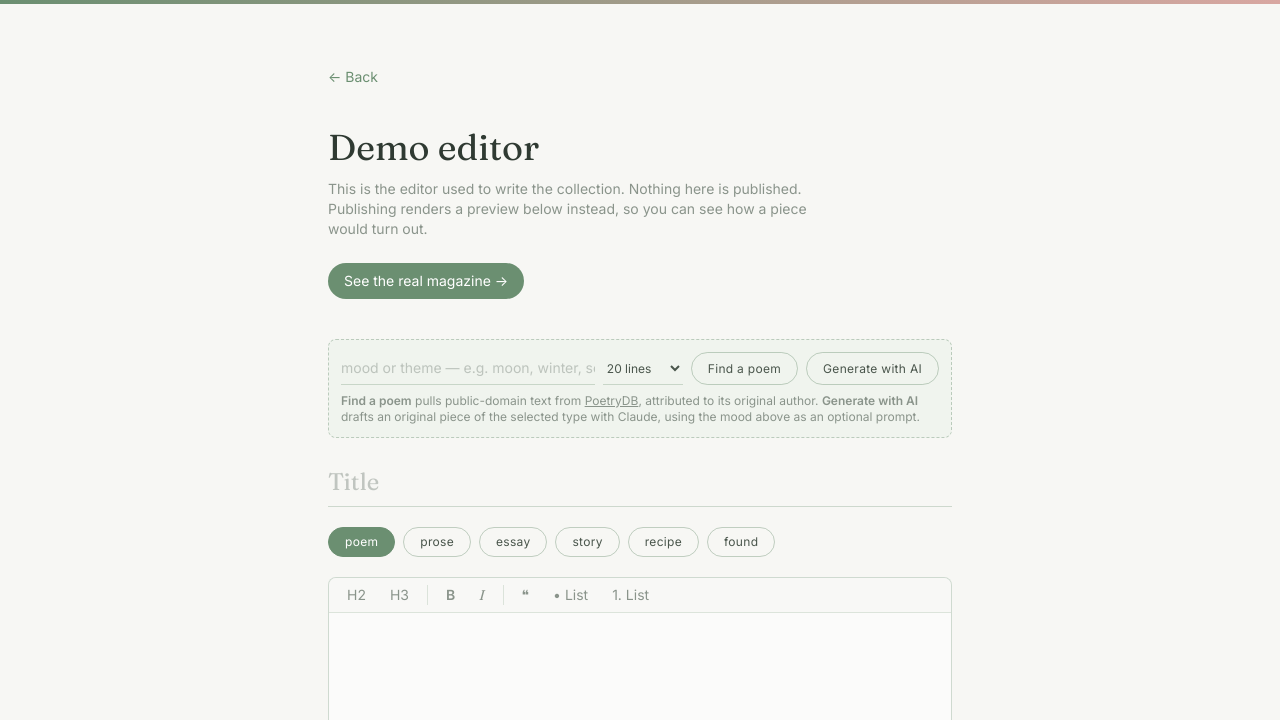
Test: public editor demo › still runs the real PoetryDB flow, unaffected by the mock
Type "winter" into the field with placeholder "mood or theme — e.g. moon, winter, sorrow" at (468, 369), box 341,352 -> 595,385
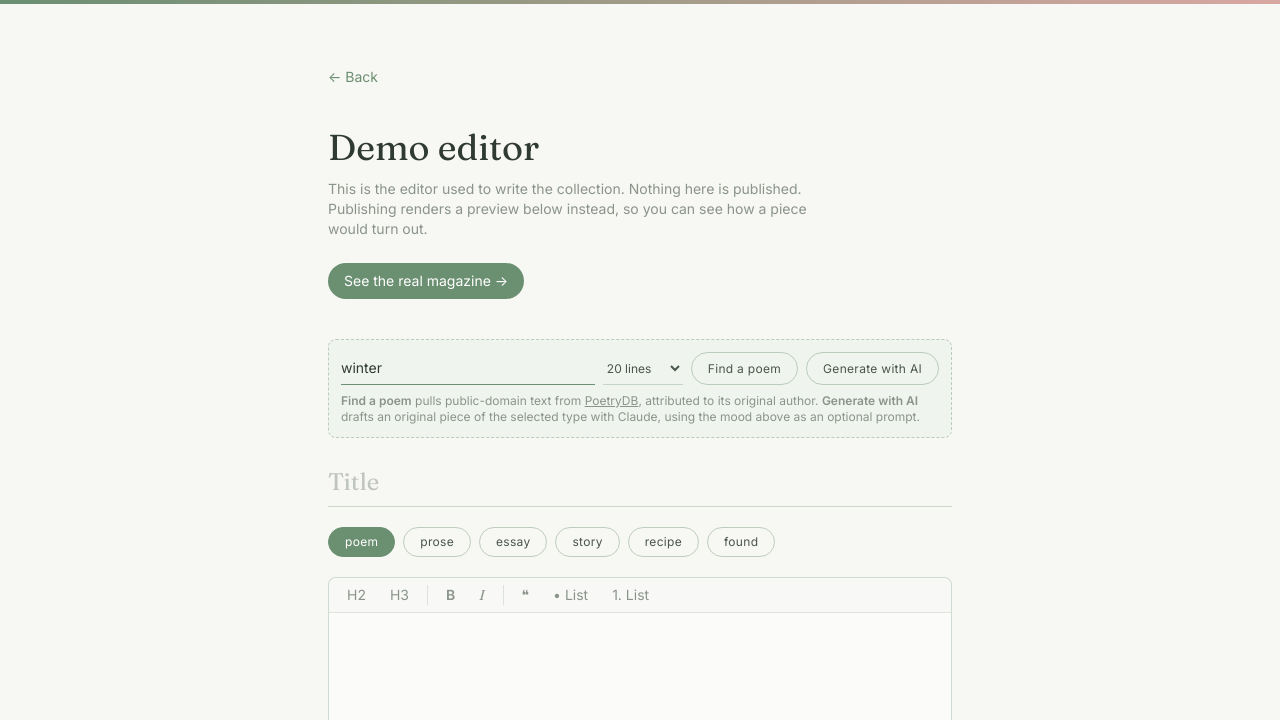
Click the button "Find a poem" at (745, 369), box 691,352 -> 798,385
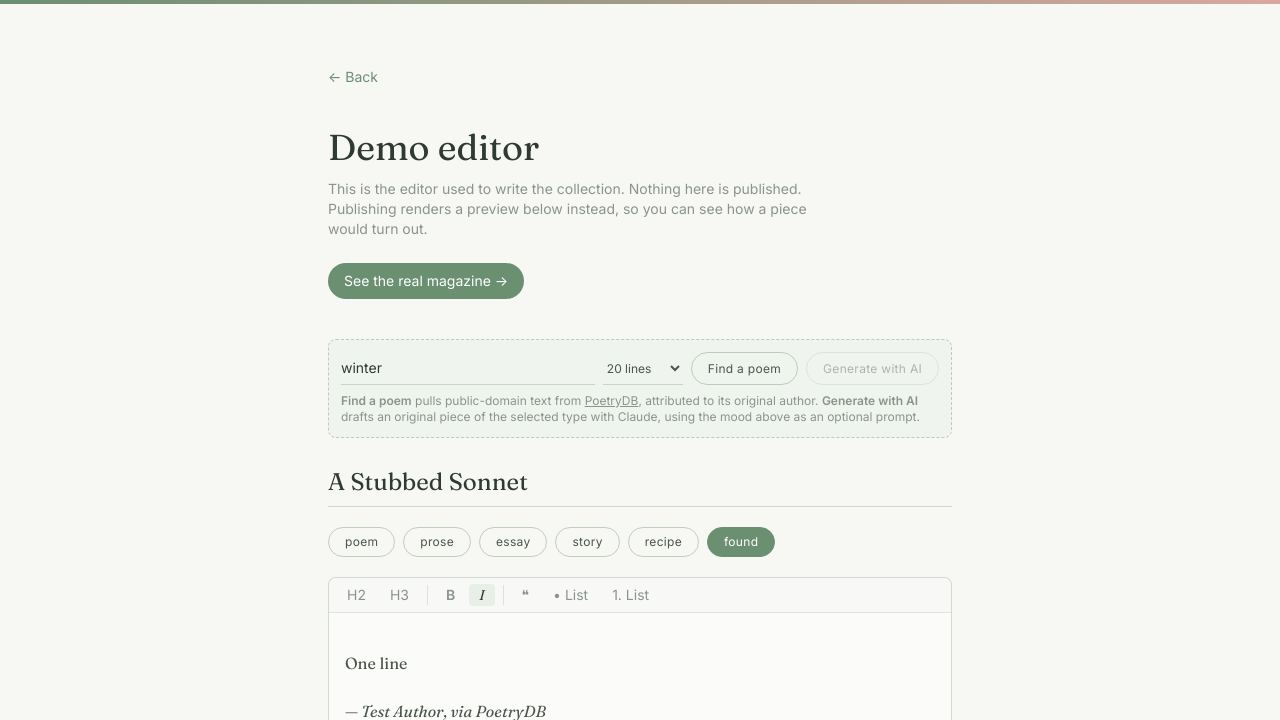
Now the 2nd field with placeholder "Title" holds "A Stubbed Sonnet", box 328,458 -> 952,507
